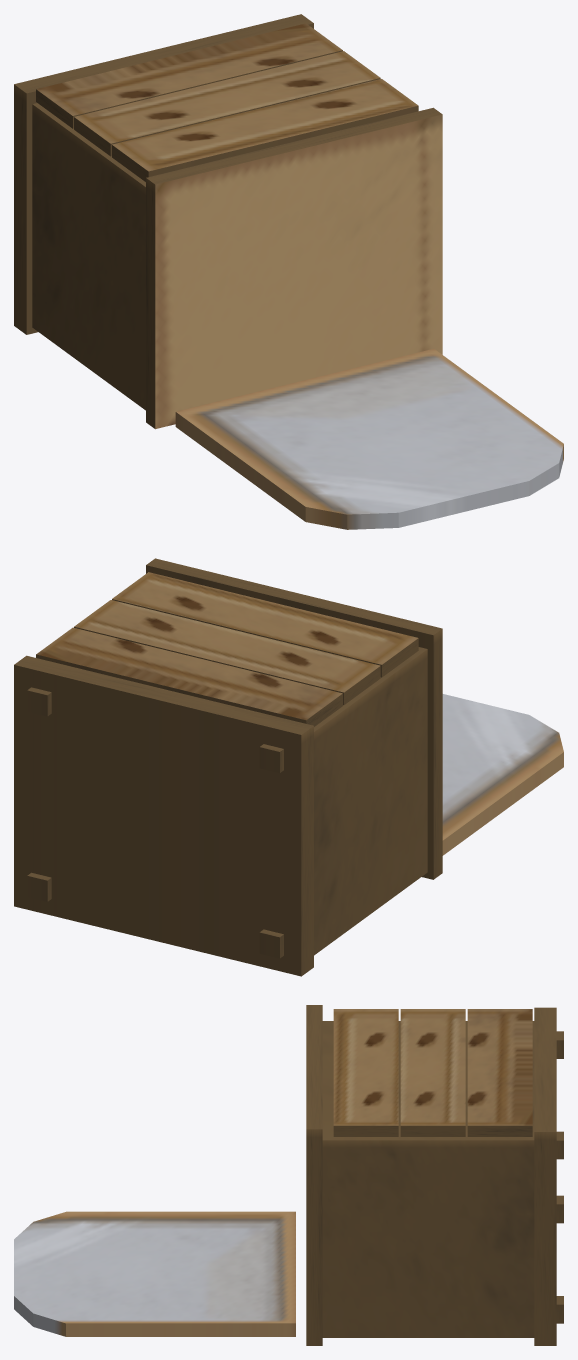
Rendered from pz_drawer_storage_01_mirror_and.obj.
3 renders of one model, top to bottom at view 1: azimuth 30°, elevation 25°; view 2: azimuth 150°, elevation 25°; view 3: azimuth 270°, elevation 25°, orthographic. The views are drawn at different scales.
Visible parts, largest first — view 1: root; view 2: root; view 3: root.
Part boxes in pixels (<box>): root: <box>14,14,563,529</box>; root: <box>14,558,563,976</box>; root: <box>14,1005,563,1345</box>.
Size of the model in its own units: 0.99 by 0.805 by 1.85.
1 material, 1 textured.
